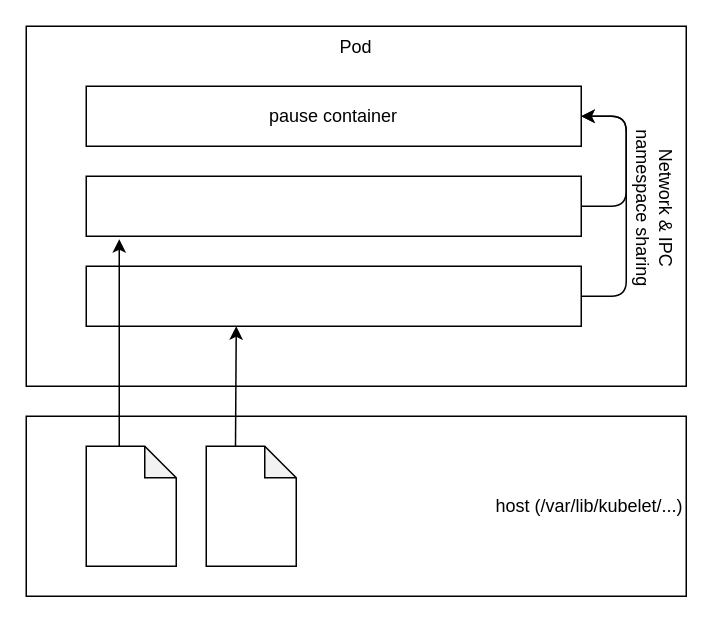
Some shapes in this 713 by 623 pixel diagram are drawn without their labels. The shapes that lost their labels are listed below. From the top down, each one's centre as x and y in pixels, then its label:
At [333,205]: "nginx".
At [333,295]: "prometheus exporter".
